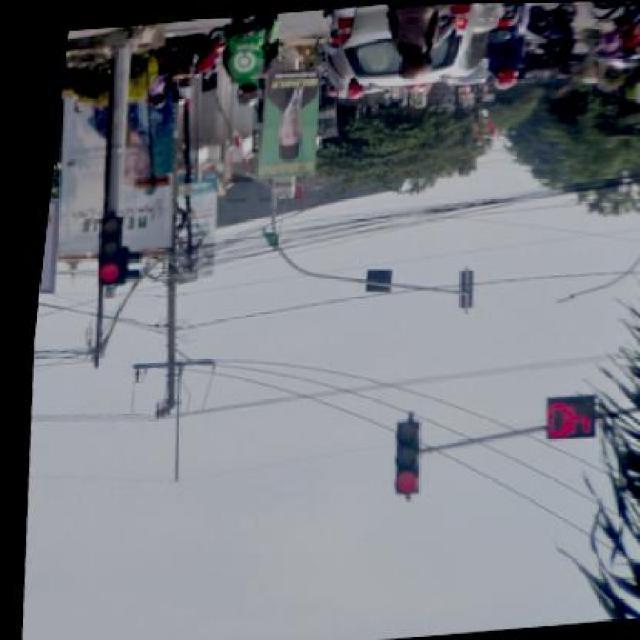red_light: (97, 210, 127, 284), (393, 410, 418, 496)
